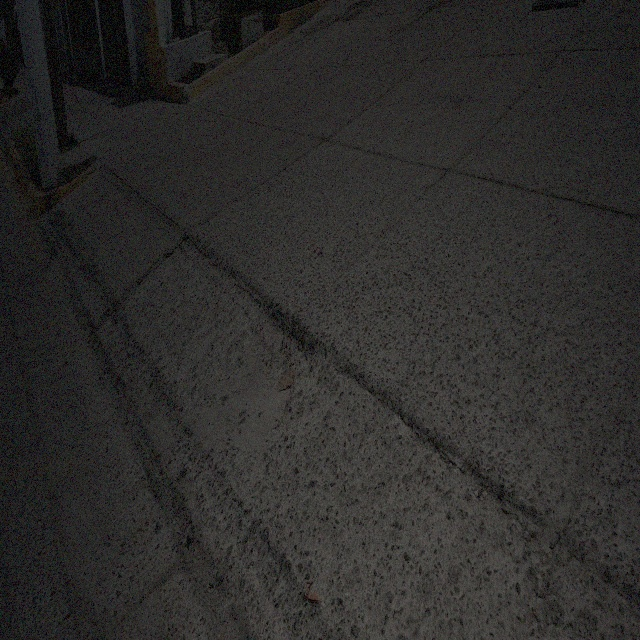pothole: (190, 298, 332, 465)
